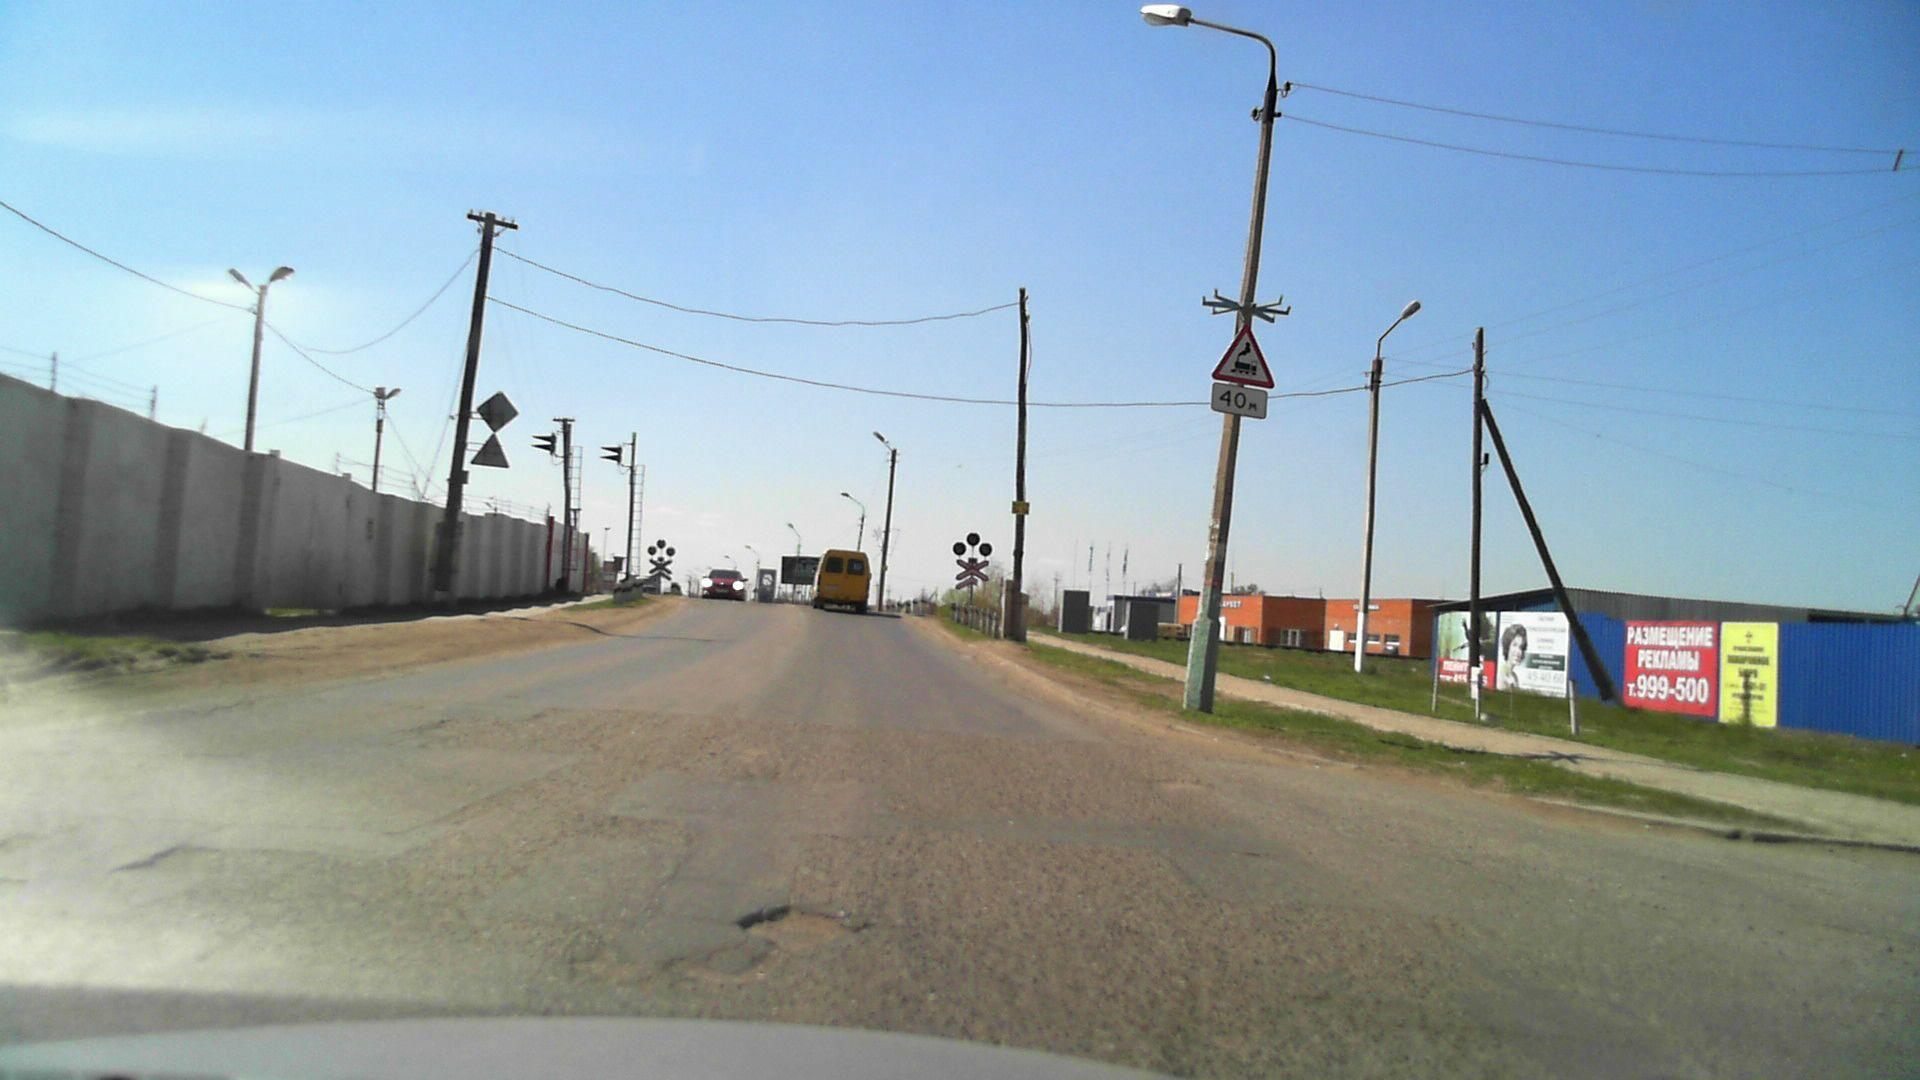1_2: (1209, 316, 1282, 388)
1_3_2: (956, 555, 993, 589)
8_1_1: (1211, 381, 1269, 417)
